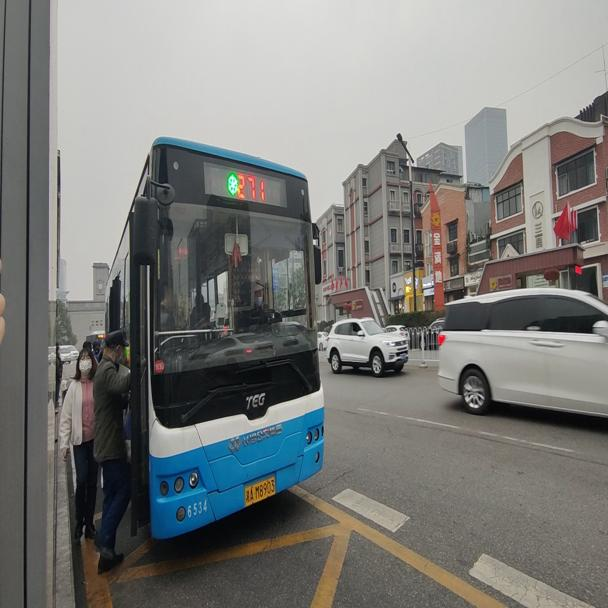bus: (101, 135, 328, 541)
screen: (235, 164, 268, 202)
